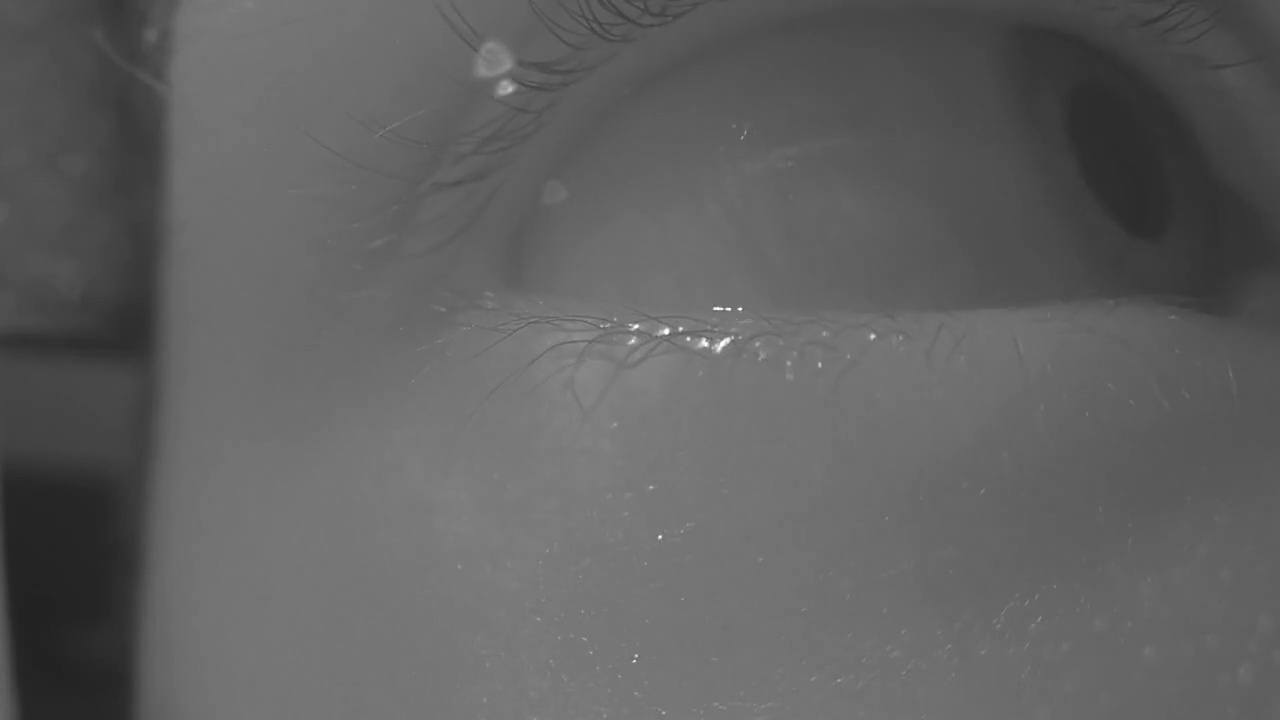pupil: (1066, 80, 1169, 244)
